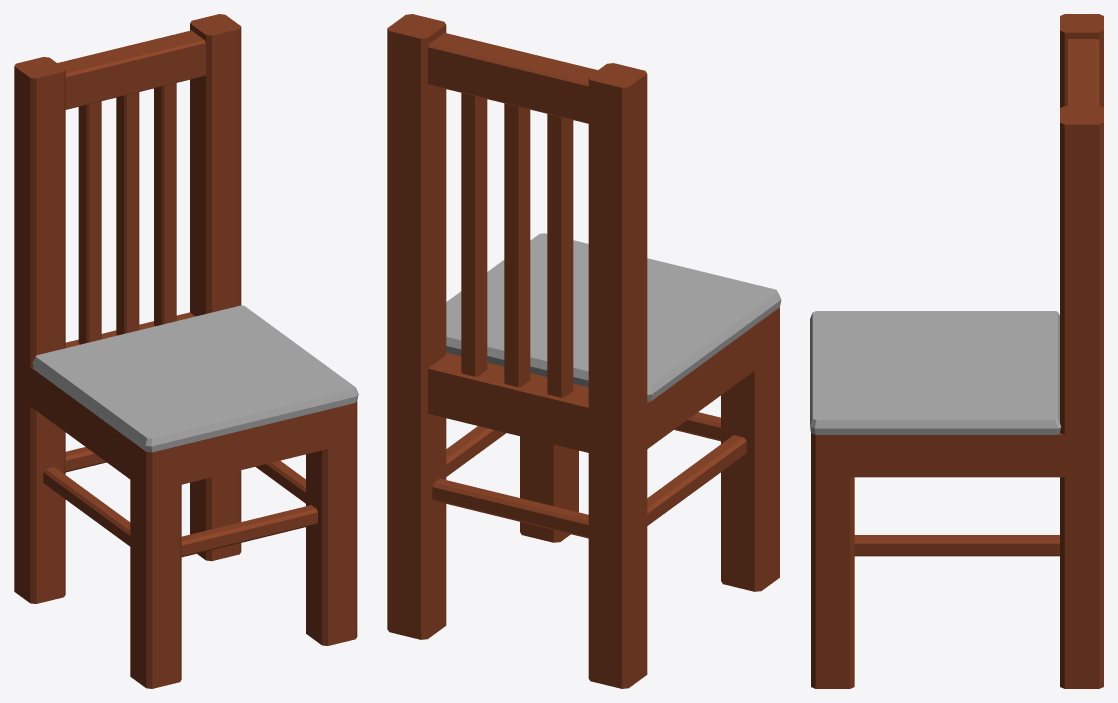
The model's file is Silla02.fbx.
3 renders of one model, left to right at view 1: azimuth 30°, elevation 25°; view 2: azimuth 150°, elevation 25°; view 3: azimuth 270°, elevation 25°, orthographic. The views are drawn at different scales.
Parts seen in each view (by area): view 1: Silla01; view 2: Silla01; view 3: Silla01.
Boxes of the visible parts, box(x1,y1,x2,y2) form: Silla01: box(14, 14, 358, 688); Silla01: box(387, 14, 781, 688); Silla01: box(810, 14, 1103, 688).
Size of the model in its own units: 42.45 by 100 by 47.17.
